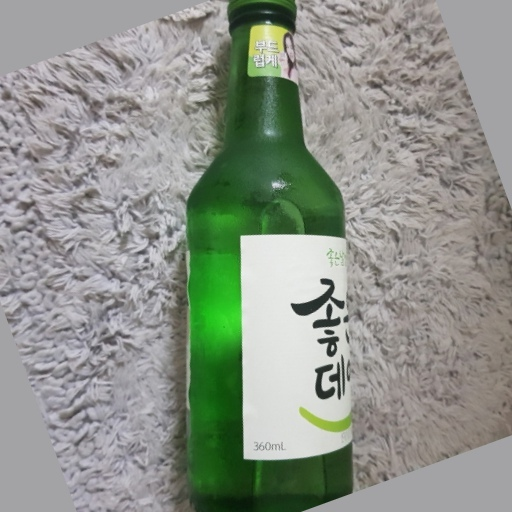Glass_0: (185, 4, 357, 511)
